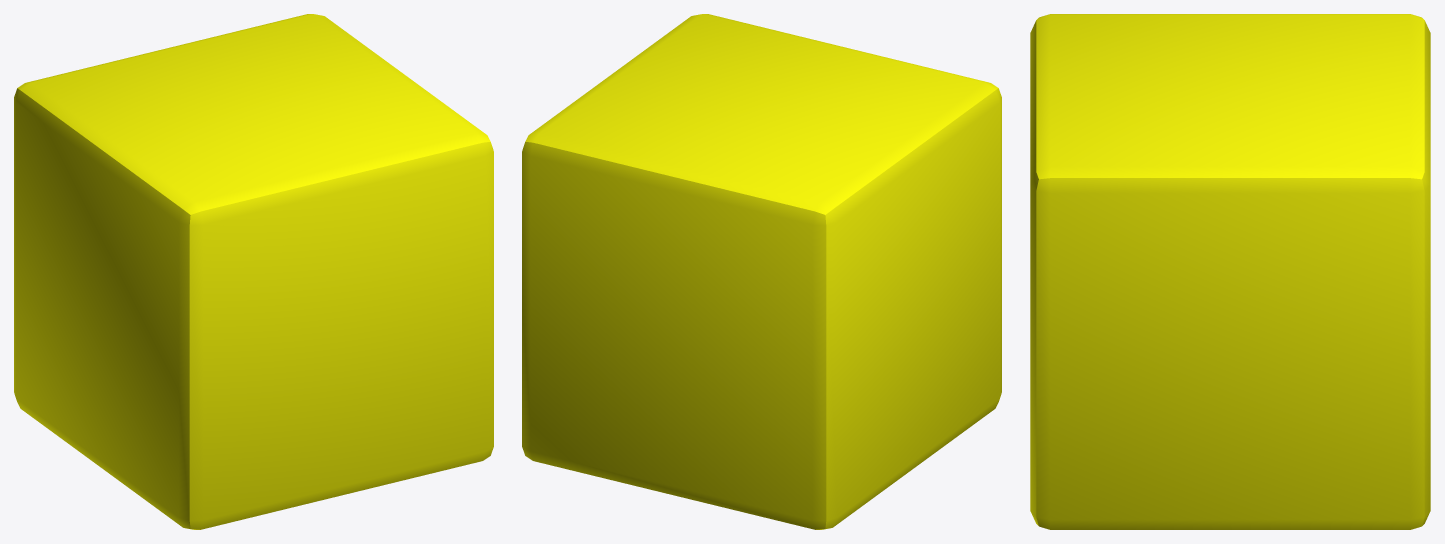
File: kaykit-glass.glb
3 renders of one model, left to right at view 1: azimuth 30°, elevation 25°; view 2: azimuth 150°, elevation 25°; view 3: azimuth 270°, elevation 25°, orthographic. The views are drawn at different scales.
Visible parts, largest first — view 1: glass; view 2: glass; view 3: glass.
Part boxes in pixels (x1,y1,x2,y2): glass: (14,14,493,529); glass: (522,14,1001,529); glass: (1030,14,1430,529).
Size of the model in its own units: 2 by 2 by 2.
